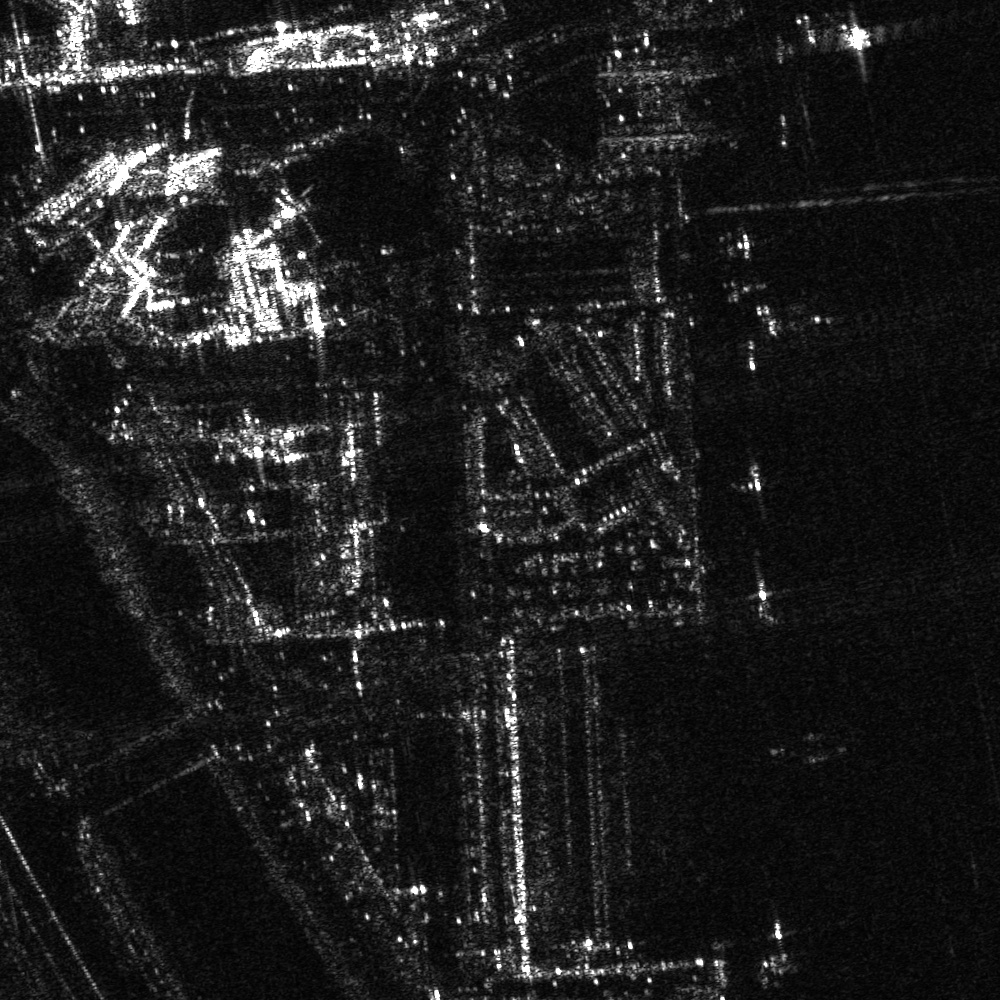A220: (736, 568, 791, 623), (750, 918, 802, 975), (735, 463, 780, 518), (711, 230, 771, 264), (745, 300, 782, 340)
other: (718, 278, 775, 304)
